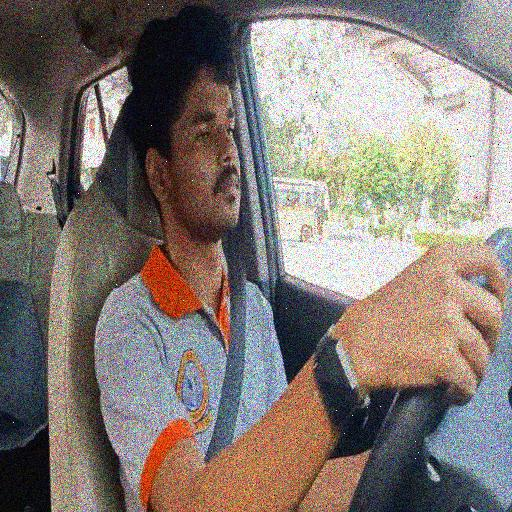sleepy: (89, 8, 507, 512)
